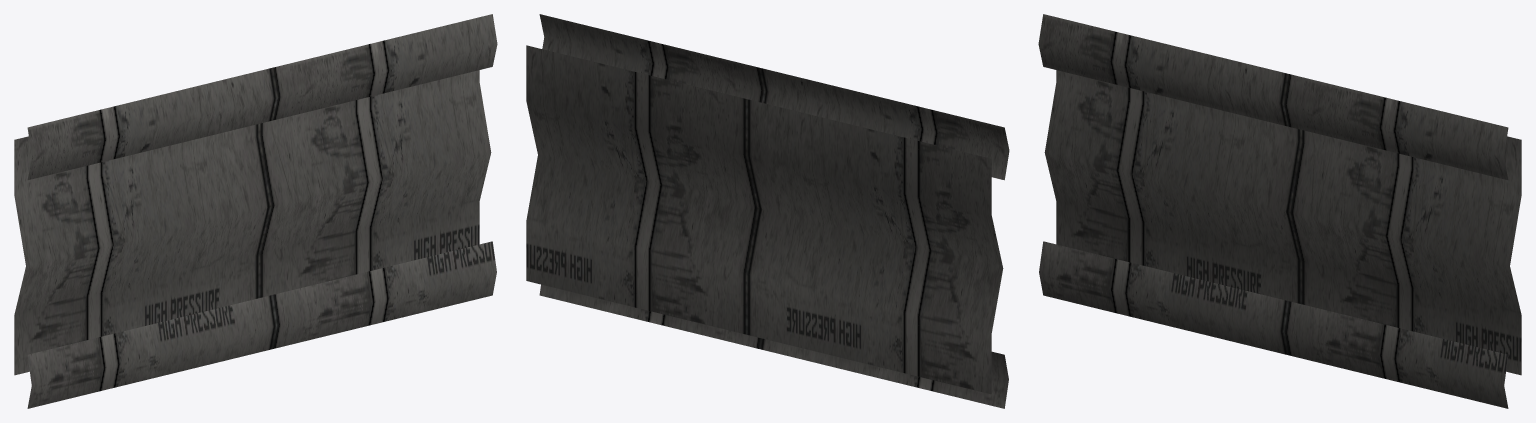
The model's file is p6_pipes_blackout_128_01_lod1.glb.
3 renders of one model, left to right at view 1: azimuth 30°, elevation 25°; view 2: azimuth 150°, elevation 25°; view 3: azimuth 330°, elevation 25°, orthographic.
Visible parts, largest first — view 1: surf0; view 2: surf0; view 3: surf0.
Part boxes in pixels (left/top/right/bottom): surf0: left=14, top=14, right=497, bottom=408; surf0: left=526, top=14, right=1009, bottom=408; surf0: left=1038, top=14, right=1521, bottom=408.
Bounding box in the file's own units: 128 × 74 × 8.47.
